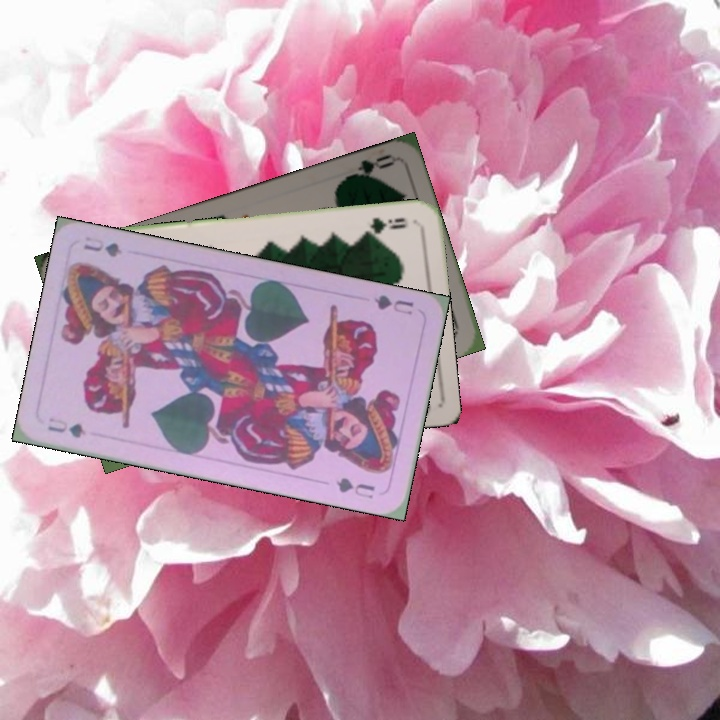G9: (358, 213, 409, 238)
GO: (340, 150, 397, 183)
GU: (369, 290, 417, 317), (43, 413, 89, 441)
